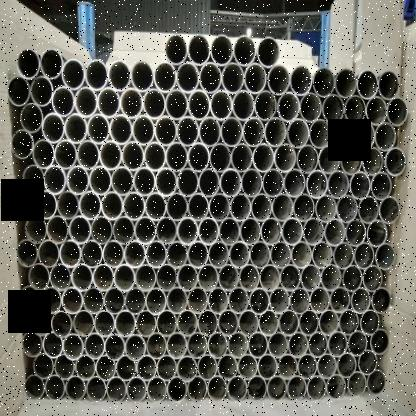pipe: (107, 59, 132, 91), (210, 33, 234, 66), (256, 35, 280, 68), (243, 61, 267, 94), (289, 63, 313, 96), (30, 74, 54, 107), (61, 58, 86, 89), (54, 138, 78, 170), (98, 139, 122, 171), (164, 33, 188, 65), (187, 33, 211, 65), (51, 85, 75, 117), (253, 89, 277, 121), (276, 90, 300, 122), (109, 113, 133, 145), (221, 61, 244, 94), (39, 48, 64, 78), (66, 164, 90, 195), (130, 60, 154, 91), (153, 61, 177, 92), (311, 66, 335, 97), (74, 86, 98, 117), (165, 140, 188, 172), (233, 34, 256, 66), (17, 47, 40, 79), (176, 61, 199, 93), (267, 63, 290, 95), (7, 74, 30, 106), (97, 86, 120, 118), (165, 88, 188, 120), (299, 91, 322, 123), (64, 112, 87, 144), (154, 114, 177, 146), (198, 115, 221, 147), (143, 87, 165, 120), (188, 88, 210, 121), (32, 138, 56, 168), (43, 164, 67, 194), (41, 112, 65, 142), (121, 140, 144, 171), (187, 141, 210, 172), (252, 142, 275, 173), (111, 165, 134, 196), (85, 59, 108, 90), (120, 87, 143, 118), (210, 89, 233, 120), (321, 93, 344, 124), (343, 94, 366, 125), (20, 102, 43, 133), (87, 113, 110, 144), (132, 114, 155, 145), (176, 115, 199, 146), (242, 116, 265, 147), (264, 116, 287, 147), (199, 61, 221, 93), (334, 66, 356, 98), (365, 94, 387, 126), (374, 121, 397, 151), (11, 129, 34, 159), (383, 146, 406, 176), (133, 166, 156, 196), (176, 167, 199, 197), (305, 169, 328, 199), (326, 169, 349, 199), (78, 190, 101, 220), (144, 191, 167, 221), (134, 215, 157, 245), (92, 262, 115, 292), (286, 118, 309, 148), (308, 118, 331, 148), (353, 120, 375, 151), (77, 139, 99, 170), (296, 143, 318, 174), (155, 166, 177, 197), (14, 188, 36, 219), (232, 89, 254, 120), (331, 119, 353, 150), (221, 115, 242, 147), (219, 168, 242, 197), (100, 191, 123, 220), (335, 194, 358, 223), (46, 215, 69, 244), (112, 215, 135, 244), (155, 216, 178, 245), (176, 216, 199, 245), (144, 141, 166, 171), (209, 142, 231, 172), (318, 144, 340, 174), (361, 146, 383, 176), (89, 165, 111, 195), (198, 167, 220, 197), (283, 168, 305, 198), (349, 170, 371, 200), (35, 189, 57, 219), (123, 191, 145, 221), (208, 192, 230, 222), (145, 239, 167, 269), (356, 69, 378, 99), (386, 96, 408, 126), (23, 163, 44, 194), (378, 69, 399, 100), (314, 194, 337, 222), (274, 143, 296, 172), (370, 171, 392, 200), (57, 190, 79, 219), (166, 192, 188, 221), (293, 193, 315, 222), (357, 195, 379, 224), (25, 214, 47, 243), (69, 215, 91, 244), (91, 215, 113, 244), (81, 239, 103, 268), (102, 239, 124, 268), (124, 239, 146, 268), (166, 240, 188, 269), (135, 263, 157, 292), (279, 263, 301, 292), (145, 286, 167, 315), (231, 142, 252, 172), (340, 145, 361, 175), (230, 192, 251, 222), (251, 192, 272, 222), (38, 238, 59, 268), (260, 217, 282, 245), (281, 217, 303, 245), (71, 263, 93, 291), (197, 263, 219, 291), (341, 264, 363, 292), (166, 286, 188, 314), (207, 286, 229, 314), (40, 286, 62, 314), (135, 309, 157, 337), (51, 309, 73, 337), (166, 331, 188, 359), (241, 168, 262, 197), (262, 168, 283, 197), (188, 192, 209, 221), (17, 238, 38, 267), (60, 239, 81, 268), (270, 240, 291, 269), (29, 262, 50, 291), (156, 263, 177, 292), (114, 263, 135, 292), (239, 263, 260, 292), (300, 263, 321, 292), (62, 286, 83, 315), (94, 308, 115, 337), (379, 195, 399, 225), (302, 218, 324, 245), (187, 241, 209, 268), (228, 241, 250, 268), (249, 241, 271, 268), (311, 241, 333, 268), (332, 242, 354, 269), (374, 243, 396, 270), (320, 264, 342, 291), (103, 287, 125, 314), (124, 287, 146, 314), (289, 287, 311, 314), (248, 287, 270, 314), (272, 193, 293, 221), (198, 217, 219, 245), (219, 217, 240, 245), (240, 217, 261, 245), (324, 218, 345, 246), (366, 219, 387, 247), (50, 263, 71, 291), (177, 263, 198, 291), (218, 263, 239, 291), (259, 264, 280, 292), (329, 286, 350, 314), (187, 286, 208, 314), (228, 286, 249, 314), (309, 286, 330, 314), (83, 286, 104, 314), (31, 308, 52, 336), (278, 308, 299, 336), (197, 308, 218, 336), (115, 309, 136, 337), (73, 309, 94, 337), (307, 330, 328, 358), (287, 330, 308, 358), (187, 331, 208, 359), (146, 331, 167, 359), (63, 332, 84, 360), (104, 332, 125, 360), (125, 332, 146, 360), (156, 353, 177, 381), (74, 354, 96, 380), (345, 219, 366, 246), (208, 241, 229, 268), (291, 241, 312, 268), (353, 242, 374, 269), (269, 287, 290, 314), (350, 287, 371, 314), (338, 308, 359, 335), (258, 309, 279, 336), (156, 309, 177, 336), (238, 309, 259, 336), (327, 330, 348, 357), (22, 330, 43, 357), (42, 331, 63, 358), (207, 331, 228, 358), (227, 331, 248, 358), (84, 332, 105, 359), (33, 352, 54, 379), (317, 352, 338, 379), (237, 353, 258, 380), (277, 353, 298, 380), (217, 353, 238, 380), (197, 353, 218, 380), (95, 354, 116, 381), (65, 374, 86, 401), (266, 374, 287, 401), (187, 375, 208, 402), (86, 375, 107, 402), (362, 264, 382, 292), (319, 308, 339, 336), (218, 308, 238, 336), (177, 308, 197, 336), (370, 328, 390, 356), (297, 352, 317, 380), (147, 375, 167, 403), (347, 330, 369, 355), (53, 354, 75, 379), (115, 355, 137, 380), (298, 309, 319, 335), (44, 374, 65, 400), (306, 375, 327, 401), (126, 376, 147, 402), (20, 285, 40, 312), (268, 331, 288, 358), (248, 331, 268, 358), (257, 353, 277, 380), (177, 354, 197, 381), (24, 373, 44, 400), (247, 374, 267, 401), (286, 374, 306, 401), (106, 375, 126, 402), (372, 286, 391, 314), (359, 309, 380, 334), (357, 350, 378, 375), (336, 352, 357, 377), (137, 354, 157, 380), (227, 375, 247, 401), (207, 375, 227, 401), (167, 376, 187, 402), (347, 371, 367, 396), (326, 374, 346, 399), (367, 369, 385, 395)
